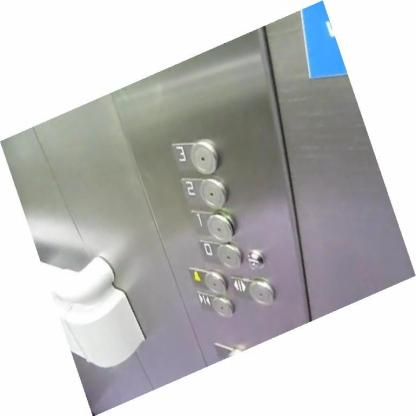0: (196, 238, 243, 270)
1: (188, 208, 236, 242)
2: (179, 175, 228, 210)
3: (168, 136, 220, 176)
alarm: (186, 265, 228, 295)
close: (194, 288, 235, 320)
open: (228, 274, 276, 306)
